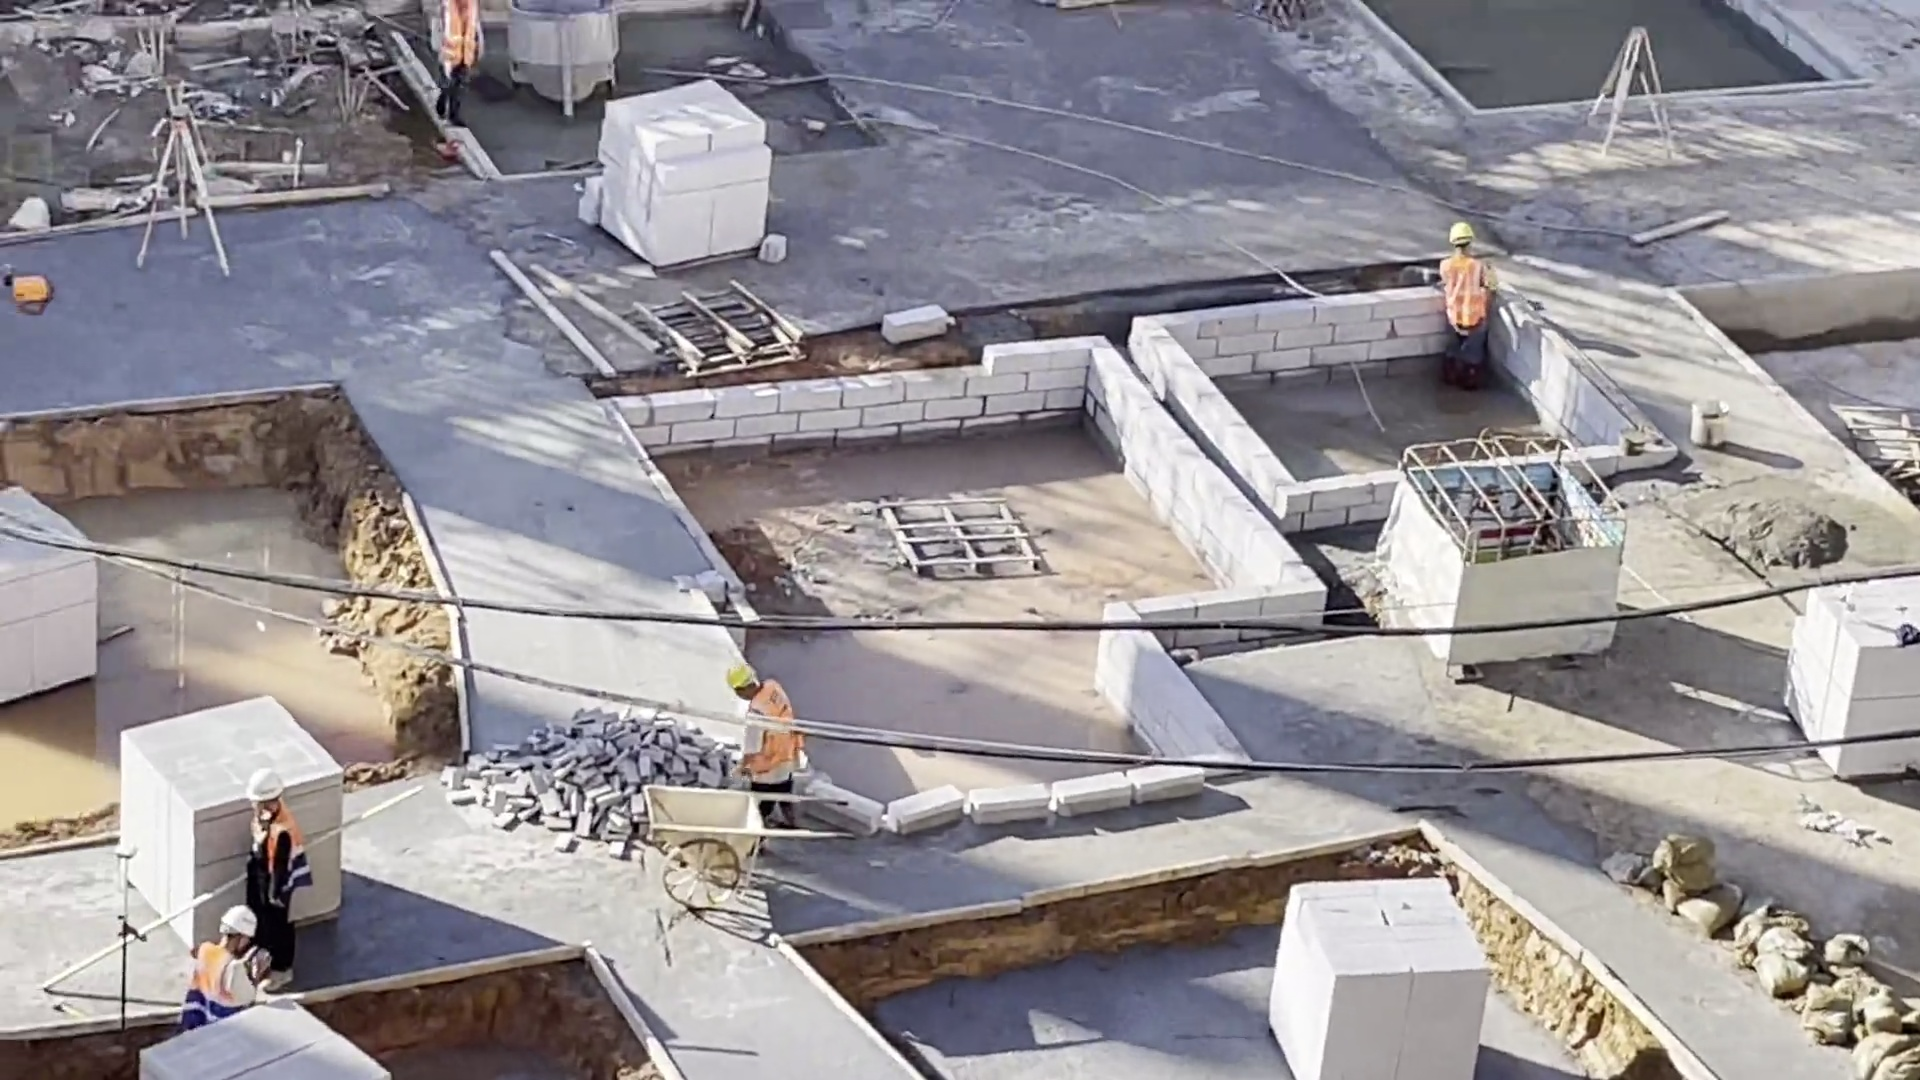brick: (1246, 874, 1493, 1080), (582, 75, 773, 274), (117, 691, 243, 913), (1786, 597, 1920, 751), (5, 552, 108, 720)
handcart: (634, 772, 767, 912)
helmet: (217, 904, 258, 941), (247, 771, 286, 806), (725, 660, 756, 689), (1451, 223, 1475, 246)
hopper: (510, 1, 622, 112)
person: (233, 765, 314, 993), (728, 658, 800, 832), (182, 902, 270, 1035), (1433, 226, 1501, 397), (430, 4, 488, 132)
vest: (182, 943, 243, 1035), (745, 679, 799, 782), (254, 805, 312, 900), (1438, 257, 1491, 335), (440, 4, 480, 71)
